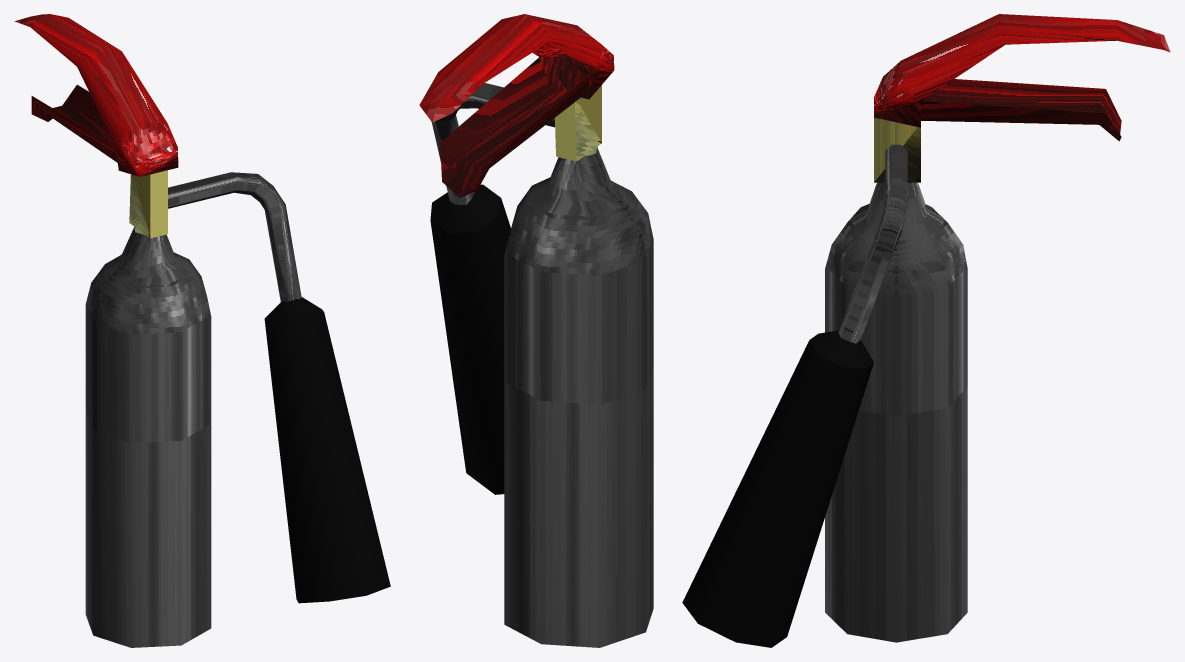
Rendered from GextinguisherZ.obj.
3 views of the same model, side by side, from view 1: azimuth 30°, elevation 25°; view 2: azimuth 150°, elevation 25°; view 3: azimuth 270°, elevation 25° (orthographic). The views are drawn at different scales.
Bounding box in the file's own units: 126 × 296 × 219.
5 materials, 5 textured.
